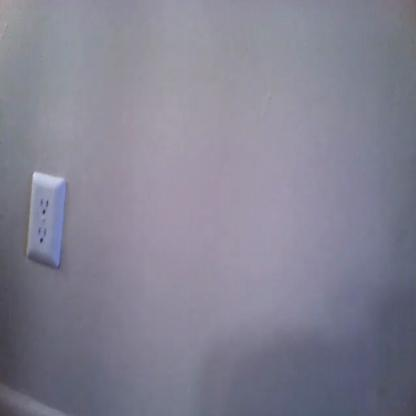OUTLET: (28, 172, 62, 268)
